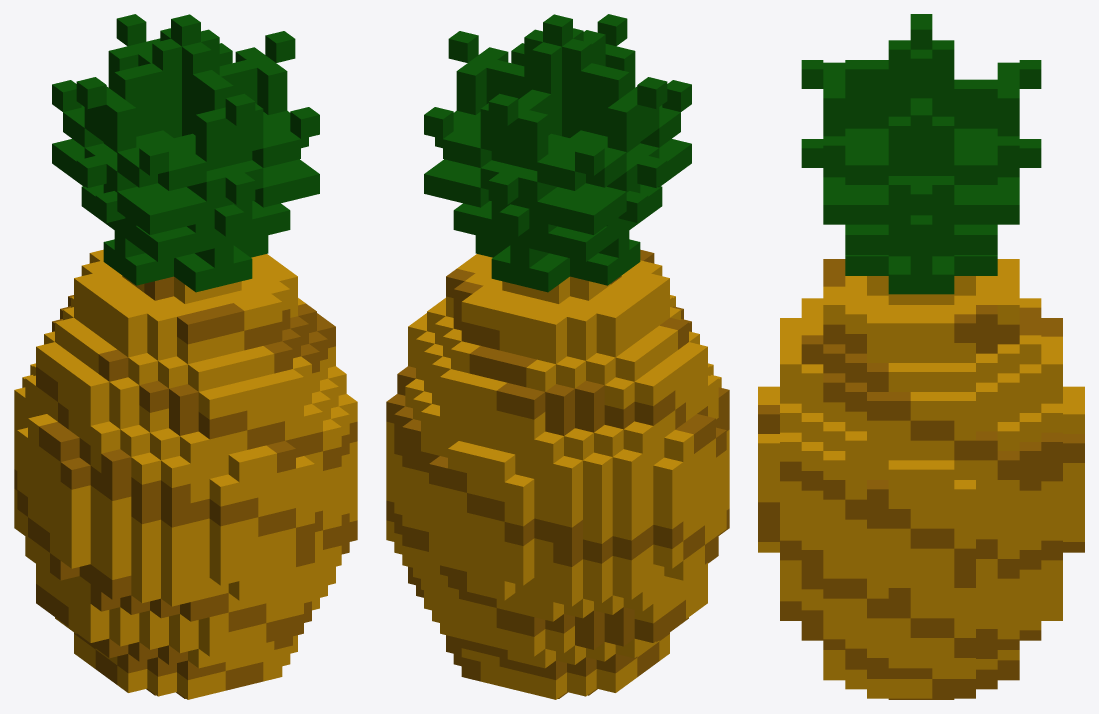
The model's file is Pineapple.fbx.
The picture shows the model from 3 angles, left to right: view 1: azimuth 30°, elevation 25°; view 2: azimuth 150°, elevation 25°; view 3: azimuth 270°, elevation 25°; orthographic projection.
Visible parts, largest first — view 1: Untitled; view 2: Untitled; view 3: Untitled.
Part boxes in pixels (x1,y1,x2,y2): Untitled: [14, 14, 357, 699]; Untitled: [386, 14, 729, 699]; Untitled: [758, 14, 1084, 699].
Size of the model in its own units: 150 by 330 by 150.
